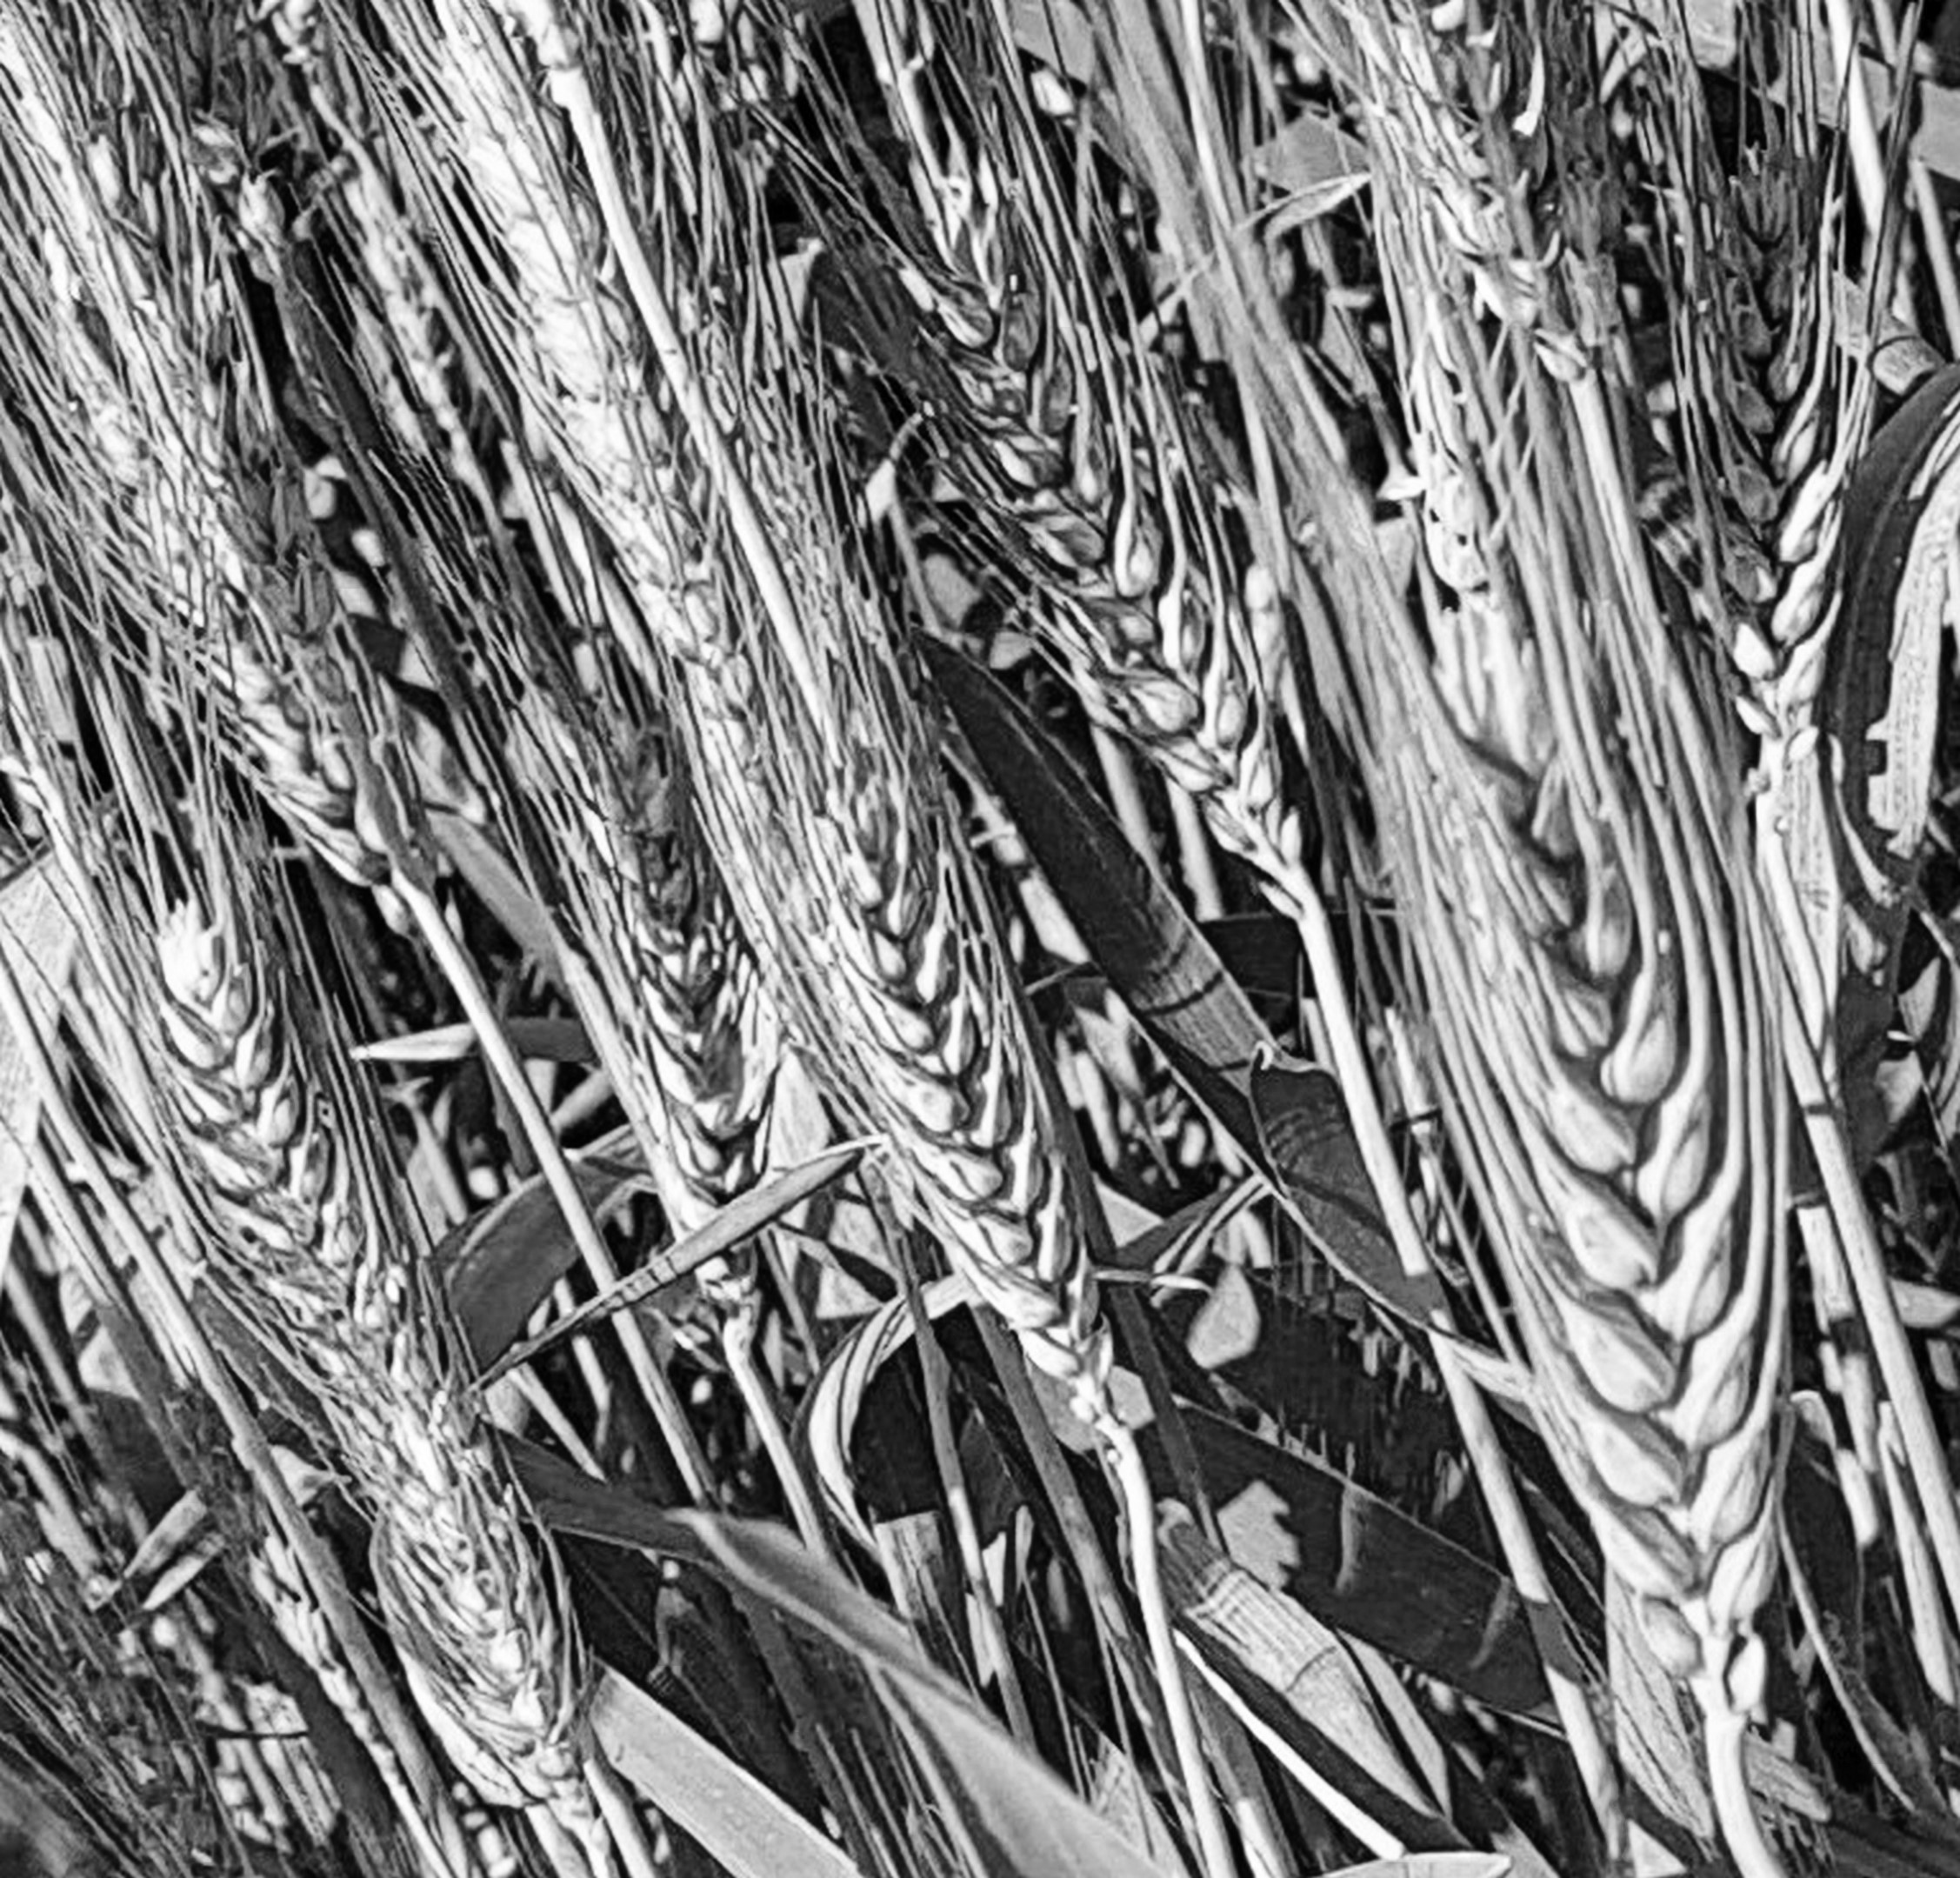Healthy Wheat: (1423, 725, 1804, 1671), (791, 796, 1118, 1405)
